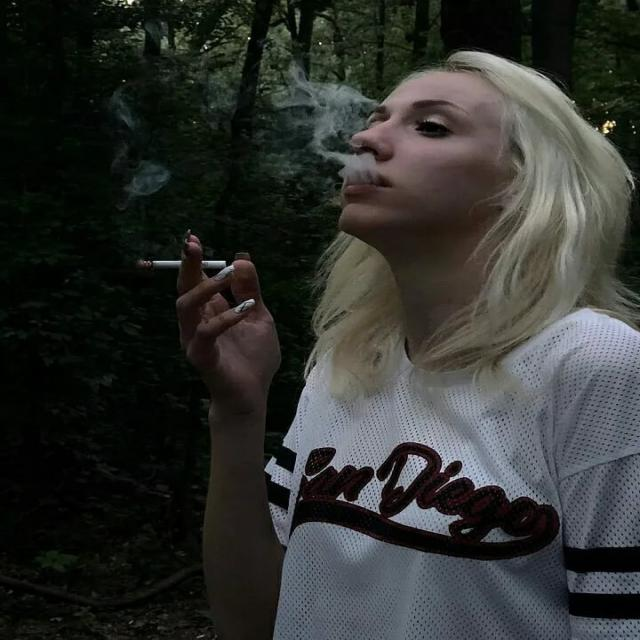smoke: (137, 257, 232, 273)
